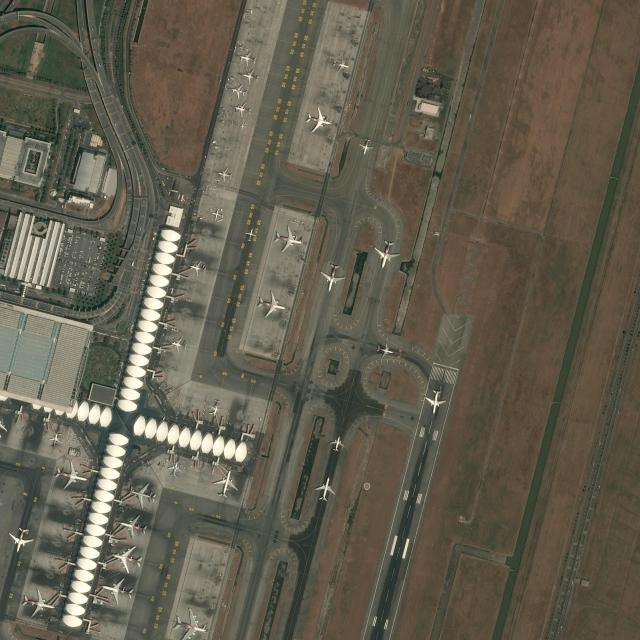1: (172, 608, 208, 640), (0, 420, 8, 438)
aircraft: (51, 460, 85, 490), (99, 576, 136, 602), (272, 226, 304, 254), (23, 590, 55, 618), (111, 544, 142, 572), (372, 238, 401, 267), (318, 262, 346, 292), (254, 291, 286, 317), (212, 470, 240, 498), (8, 526, 36, 553), (306, 105, 332, 134), (118, 514, 148, 539), (129, 482, 158, 507), (424, 388, 446, 415), (314, 477, 336, 501), (332, 55, 350, 74), (328, 434, 345, 454), (188, 260, 208, 276), (236, 50, 258, 64), (207, 399, 225, 416), (358, 136, 374, 154), (376, 342, 394, 358), (240, 69, 260, 83), (229, 84, 248, 98), (170, 336, 186, 352), (216, 167, 233, 182), (233, 102, 251, 116), (166, 462, 183, 476), (47, 432, 63, 446), (244, 228, 257, 242), (210, 208, 224, 220), (239, 122, 246, 130)
